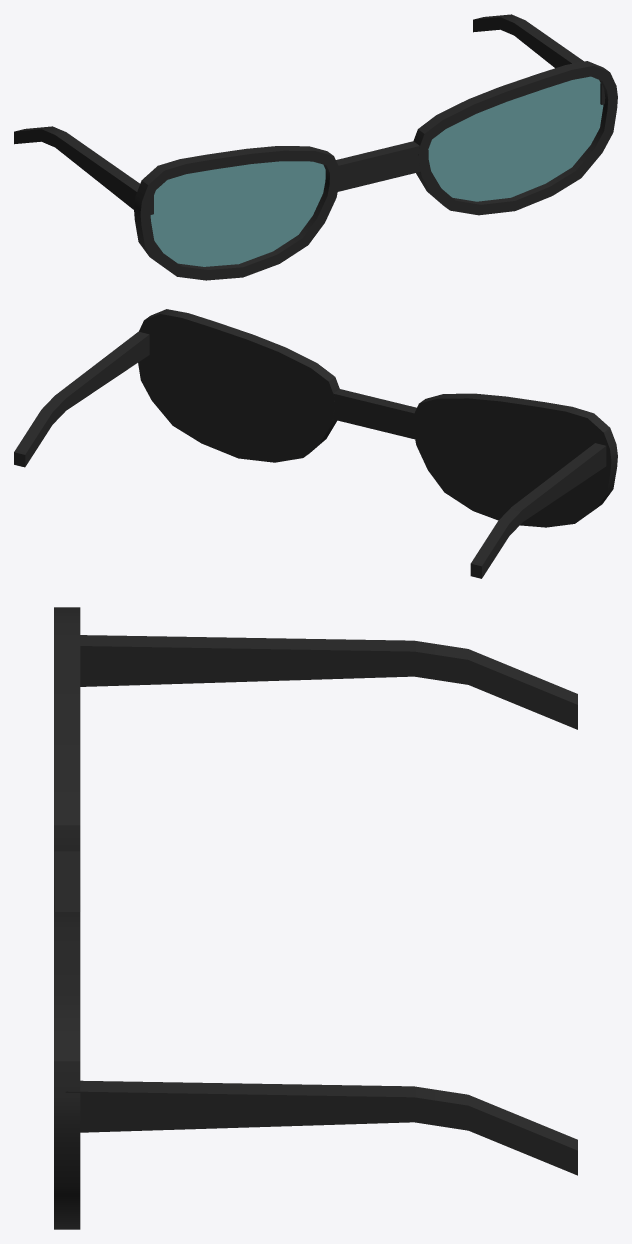
File: Subglasses.fbx
The picture shows the model from 3 angles, top to bottom: view 1: azimuth 30°, elevation 25°; view 2: azimuth 150°, elevation 25°; view 3: azimuth 270°, elevation 25°; orthographic projection. The views are drawn at different scales.
Parts seen in each view (by area): view 1: polySurface1, pCube5, pCube4; view 2: polySurface1, pCube5, pCube4; view 3: pCube5, polySurface1, pCube4.
Part boxes in pixels (<box>): polySurface1: <box>134,61,617,280</box>; pCube5: <box>14,14,605,214</box>; pCube4: <box>336,141,420,191</box>; polySurface1: <box>138,309,617,527</box>; pCube5: <box>14,331,606,578</box>; pCube4: <box>332,389,416,439</box>; pCube5: <box>65,635,577,1175</box>; polySurface1: <box>54,607,80,1229</box>; pCube4: <box>54,851,79,911</box>.
Size of the model in its own units: 26.44 by 6.74 by 12.63.
